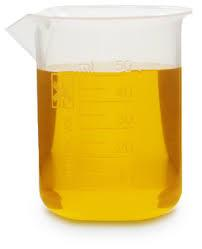Beaker: (5, 11, 186, 223)
